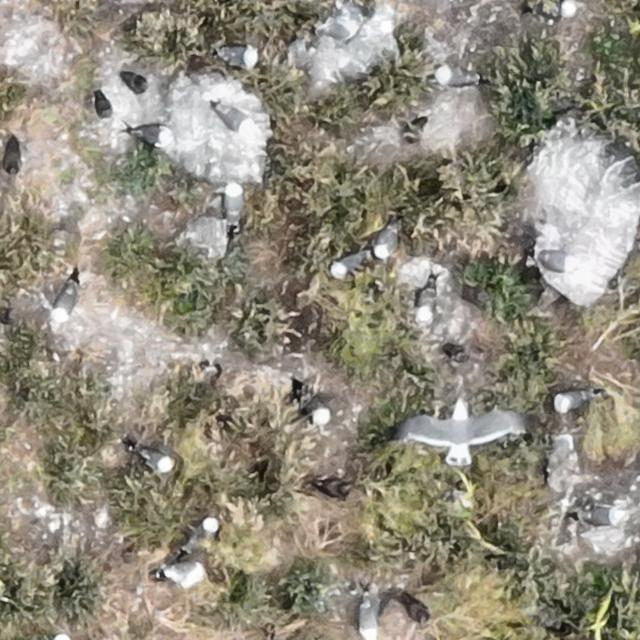F: (403, 402, 521, 456)
umineko: (182, 516, 222, 551), (300, 384, 332, 426), (50, 280, 79, 324), (213, 103, 254, 134), (538, 250, 582, 274), (167, 561, 207, 587), (224, 181, 243, 234), (436, 66, 479, 88), (419, 277, 439, 323), (554, 389, 592, 412), (581, 507, 623, 527), (132, 123, 172, 143), (531, 1, 577, 18), (218, 47, 256, 66), (374, 225, 396, 257), (332, 254, 364, 276), (141, 449, 174, 470), (359, 602, 376, 638), (123, 76, 149, 96), (96, 94, 110, 118)
